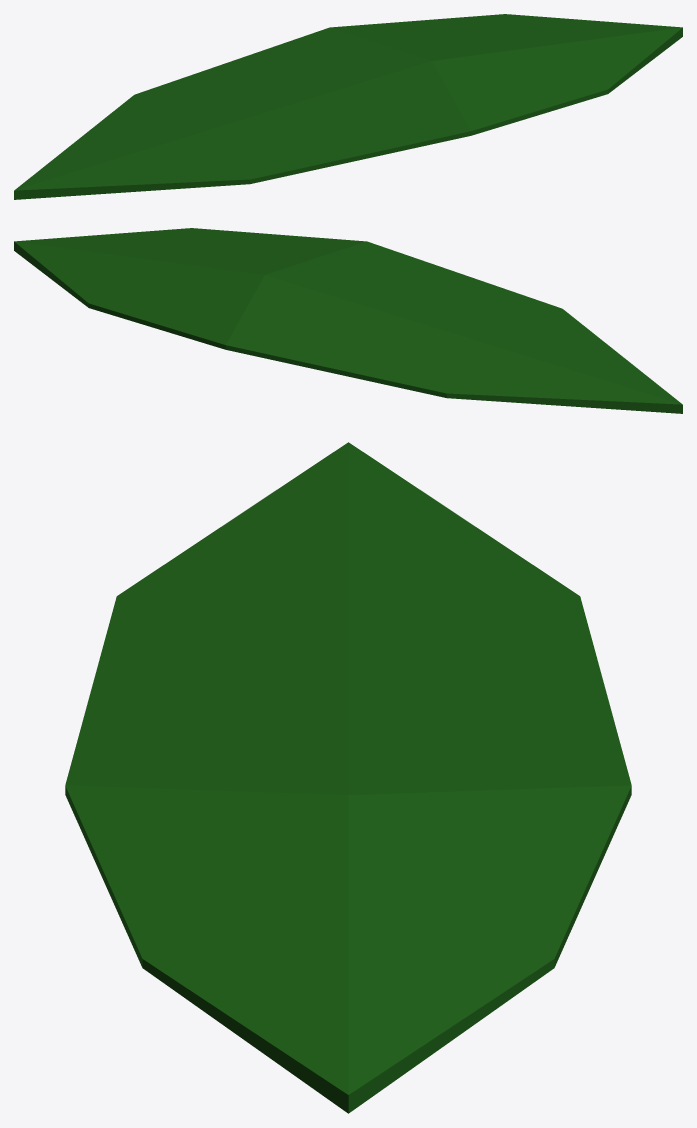
File: Leaf.fbx
3 views of the same model, one above another, from view 1: azimuth 30°, elevation 25°; view 2: azimuth 150°, elevation 25°; view 3: azimuth 270°, elevation 25° (orthographic). The views are drawn at different scales.
Visible parts, largest first — view 1: Leaf 1; view 2: Leaf 1; view 3: Leaf 1.
Part boxes in pixels (bbox=[...]): Leaf 1: bbox=[14, 14, 682, 199]; Leaf 1: bbox=[14, 228, 682, 413]; Leaf 1: bbox=[65, 442, 631, 1113].
Size of the model in its own units: 46.88 by 2.47 by 17.19.
